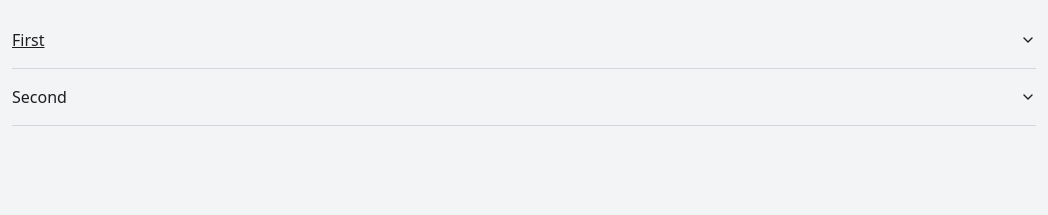
Accordion › Interactions › allows multiple items open with type="multiple"
Click the button "First".
click(28, 40)  # box [12,12,1036,68]
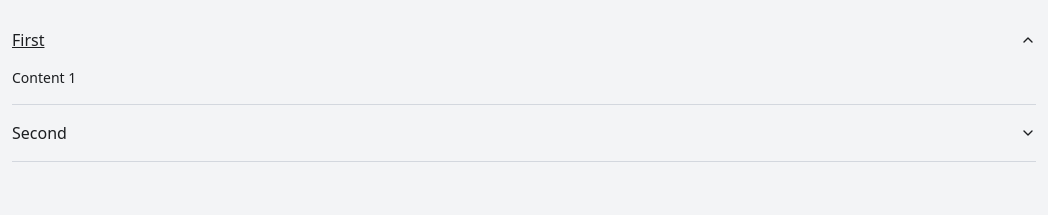
Click the button "Second".
click(39, 133)  # box [12,105,1036,161]
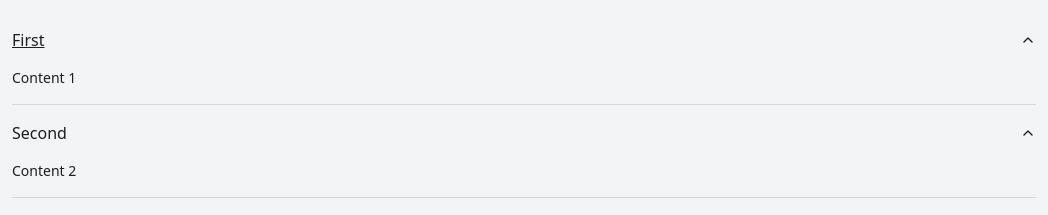
Check: the button "First" has attribute data-state="open", box [12,12,1036,68]
Check: the button "Second" has attribute data-state="open", box [12,105,1036,161]
